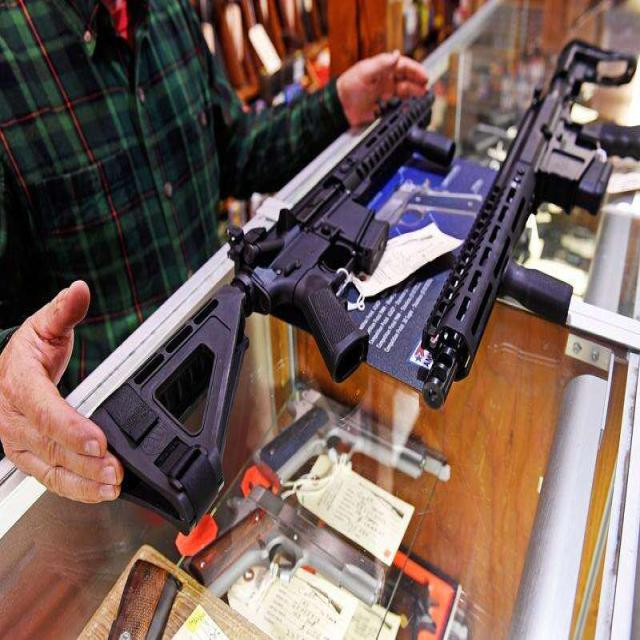Rifle: (90, 95, 455, 513), (412, 40, 640, 409)
